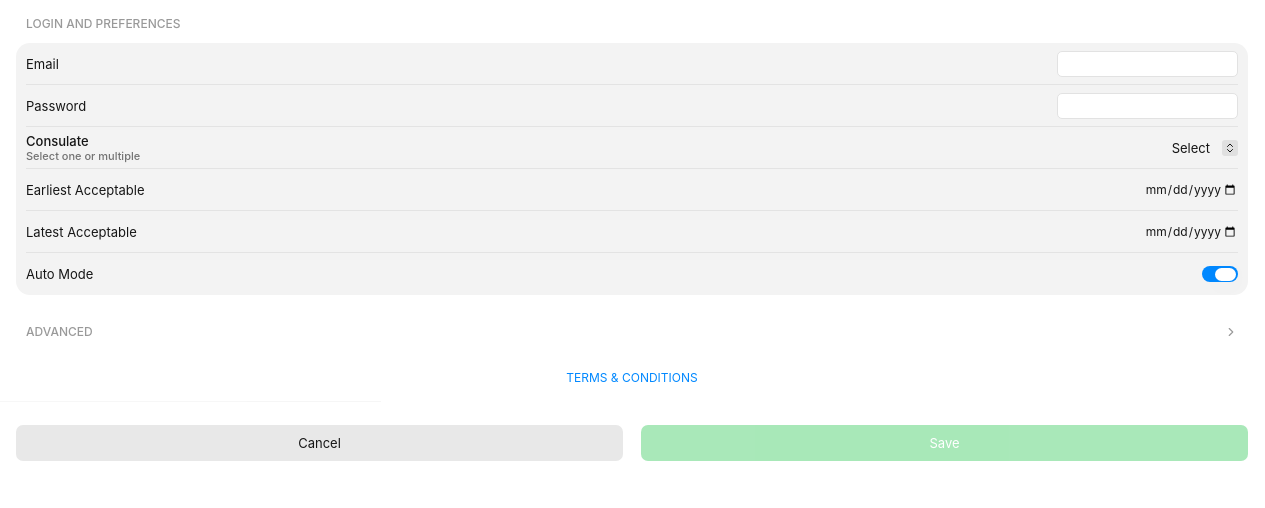
Test: Settings validation timing › only warns about the completed Latest Acceptable field and hides its warning on refocus
Click the date field labelled "Latest Acceptable". click: (1168,232)
box: x1=1099 y1=218 x2=1238 y2=244
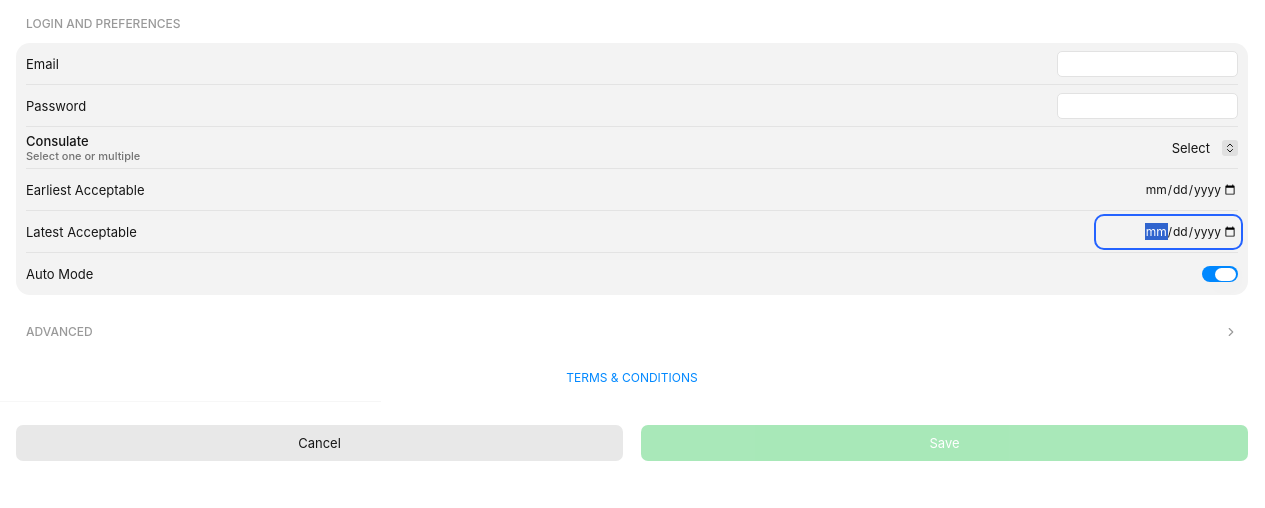
Click the heading "Login and preferences". click: (103,24)
box: x1=26 y1=16 x2=180 y2=31
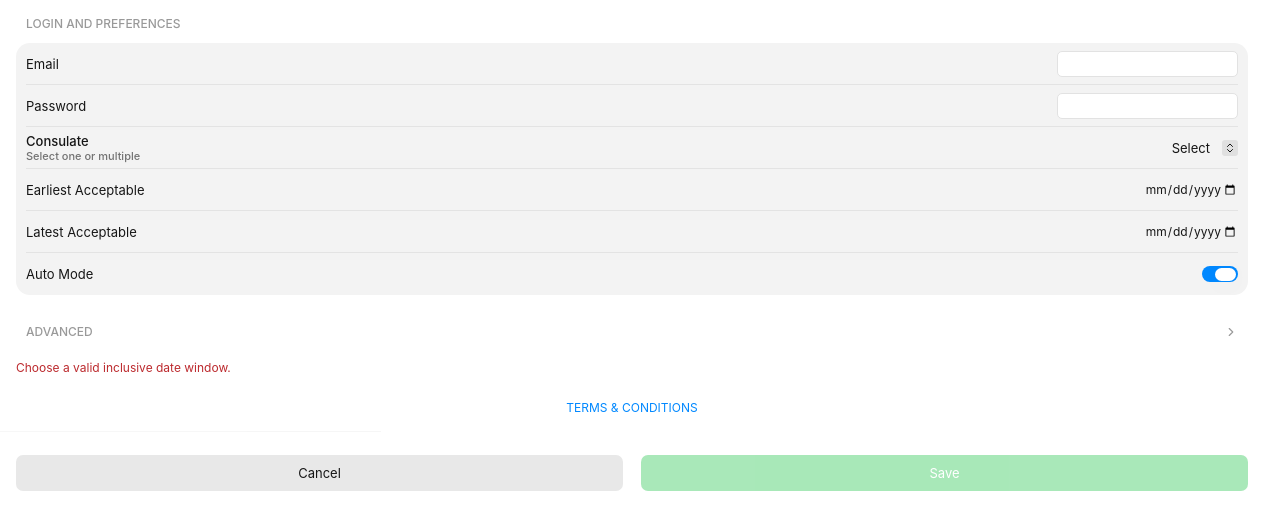
Now the message reads "Choose a valid inclusive date window.", box x1=16 y1=360 x2=231 y2=375
Click the date field labelled "Latest Acceptable". click: (1168,232)
box: x1=1099 y1=218 x2=1238 y2=244
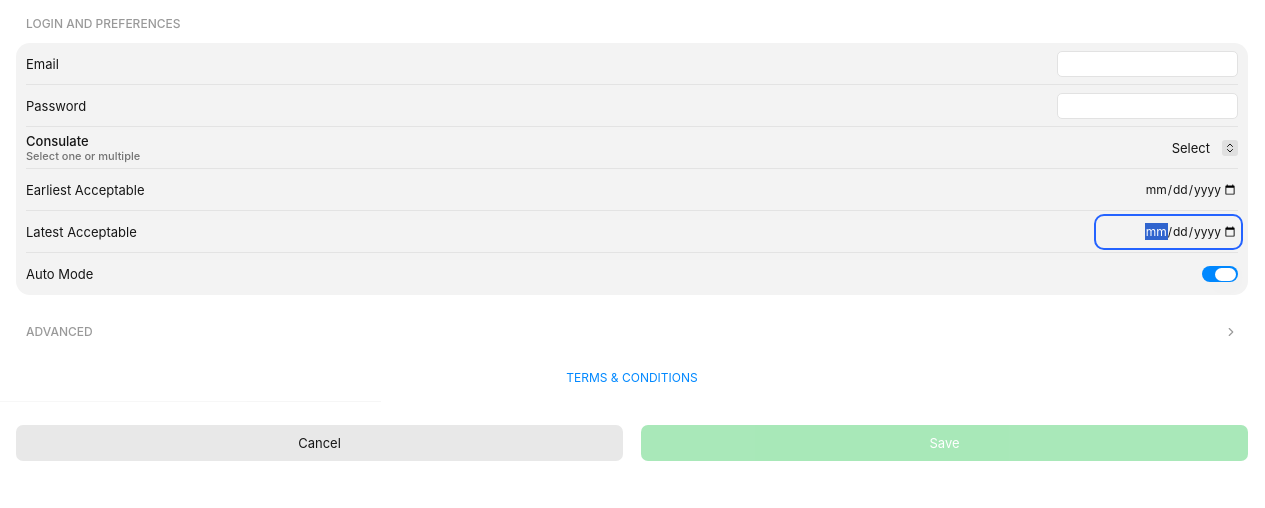
Now the message "Choose a valid inclusive date window." is gone
